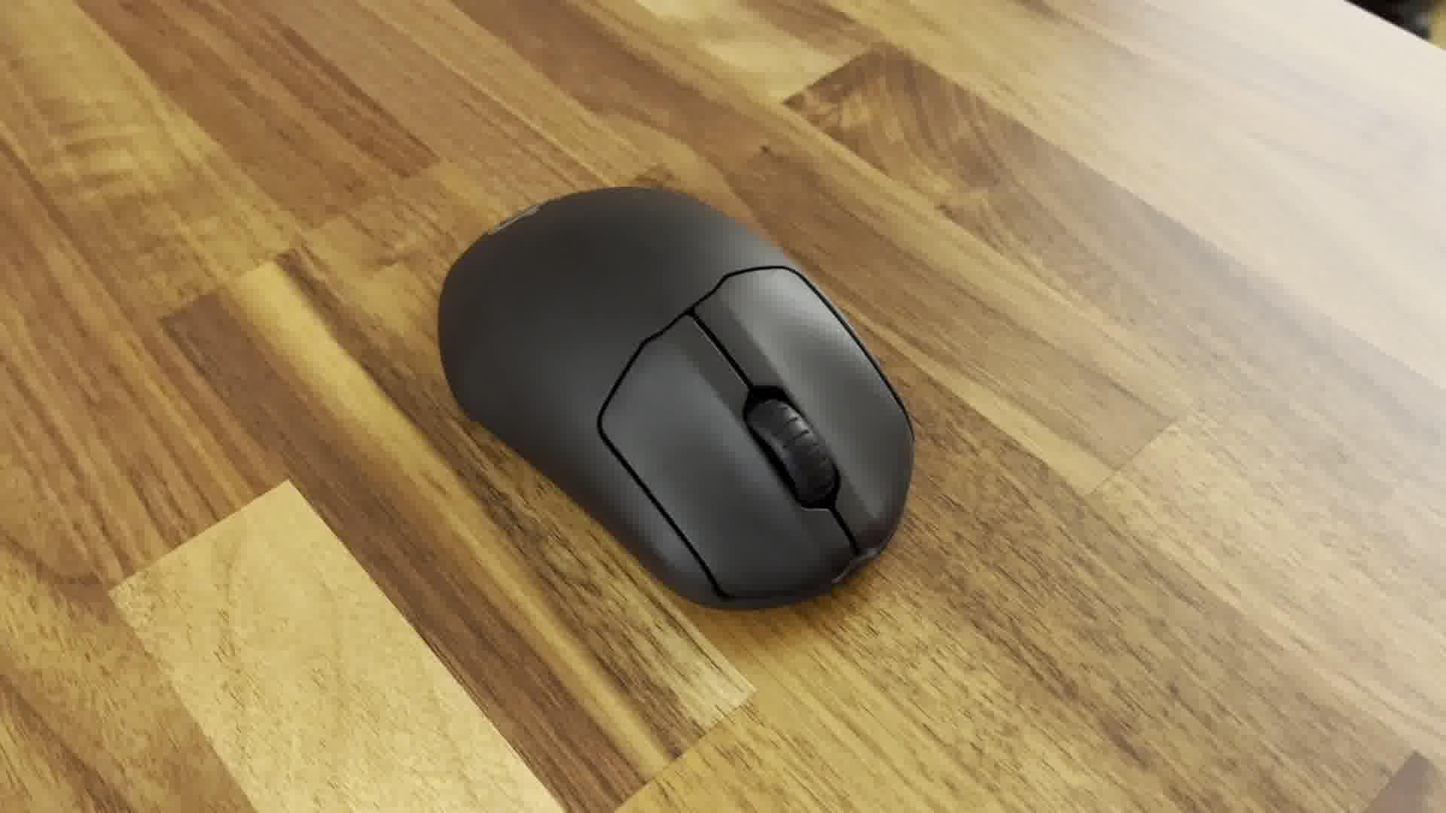steel-series: (430, 181, 921, 617)
